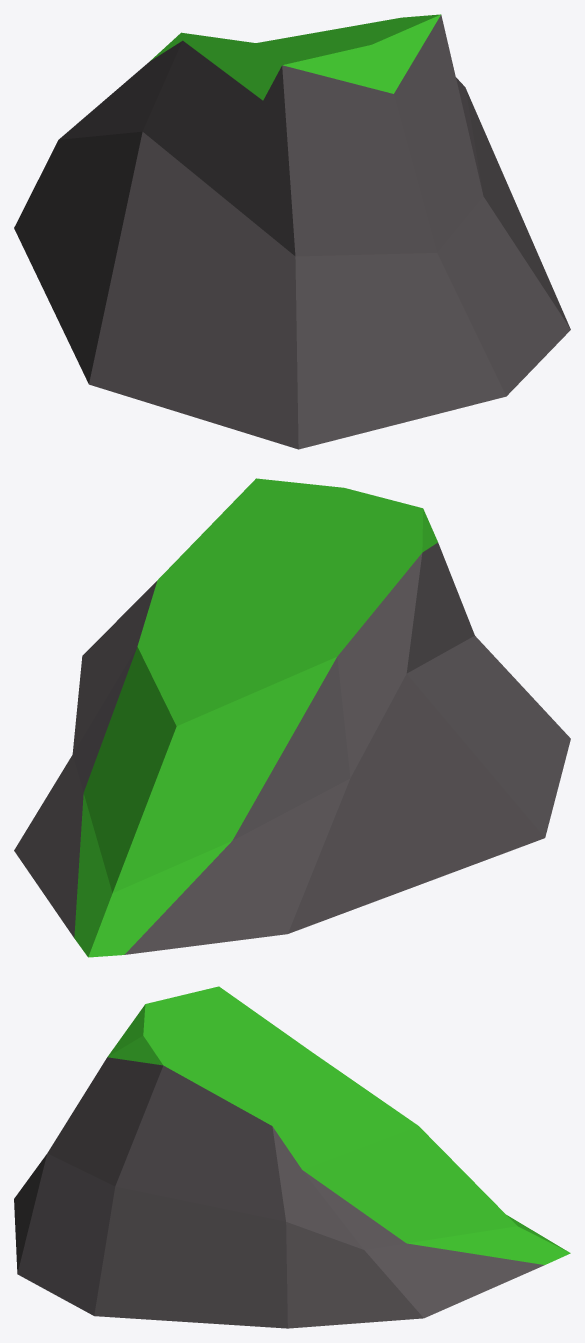
File: boulder1.fbx
3 views of the same model, one above another, from view 1: azimuth 30°, elevation 25°; view 2: azimuth 150°, elevation 25°; view 3: azimuth 270°, elevation 25° (orthographic). The views are drawn at different scales.
Parts seen in each view (by area): view 1: Circle.004; view 2: Circle.004; view 3: Circle.004.
Boxes of the visible parts, <box> form: Circle.004: <box>14,14,570,449</box>; Circle.004: <box>14,478,570,957</box>; Circle.004: <box>14,986,570,1328</box>.
Bounding box in the file's own units: 156 × 98.97 × 226.
